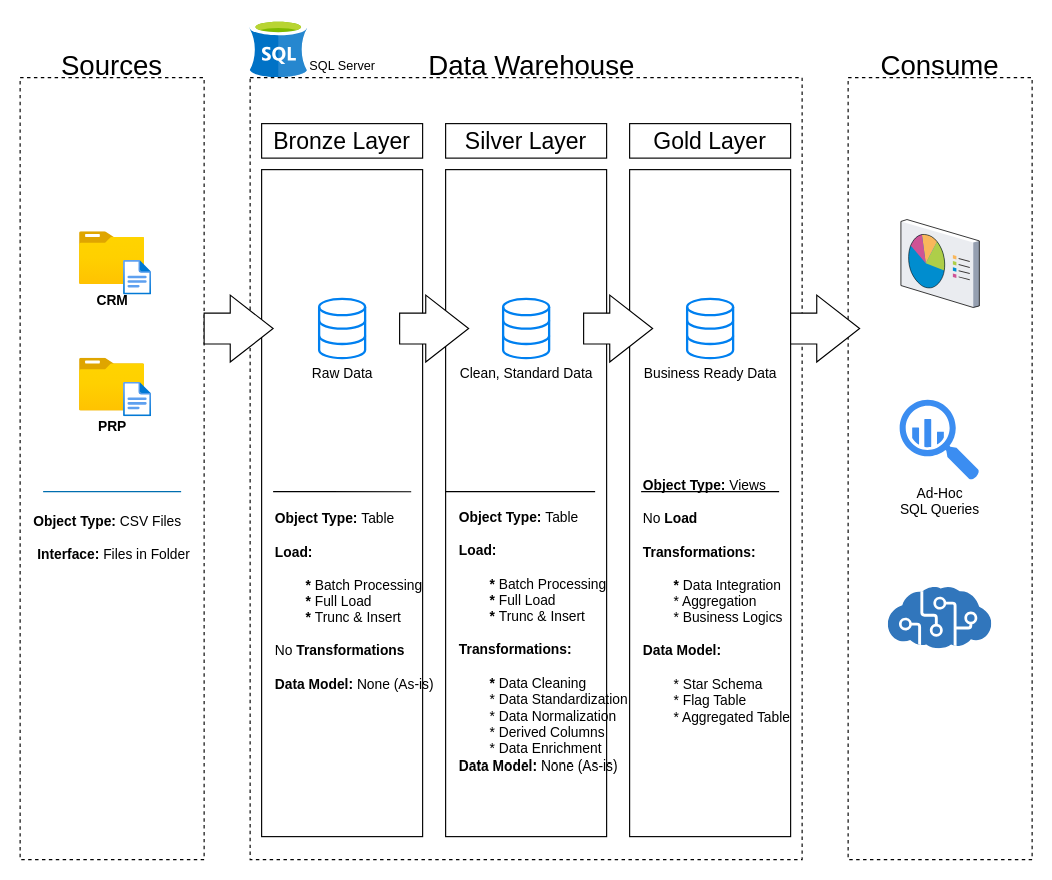
Some shapes in this 1052 by 880 pixel diagram are drawn without their labels. Each missing label, with the centre of its shape:
"Machine Learning" belongs at point (939, 617).
"Reporting" belongs at point (939, 263).
